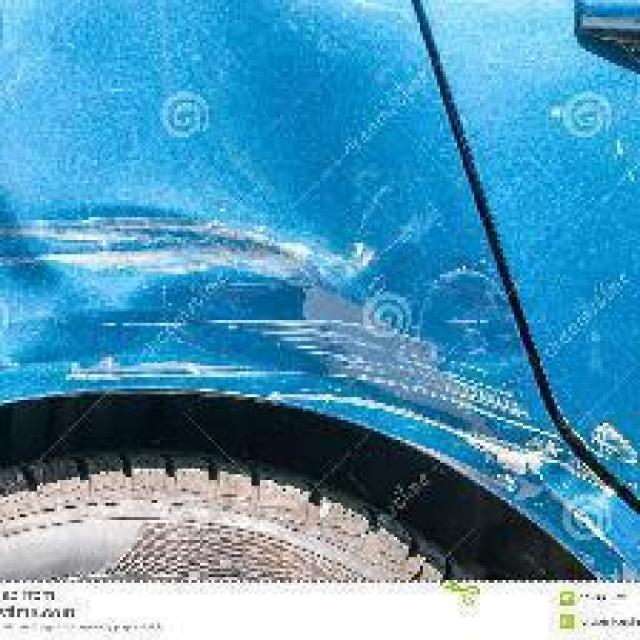damaged: (2, 202, 638, 554)
